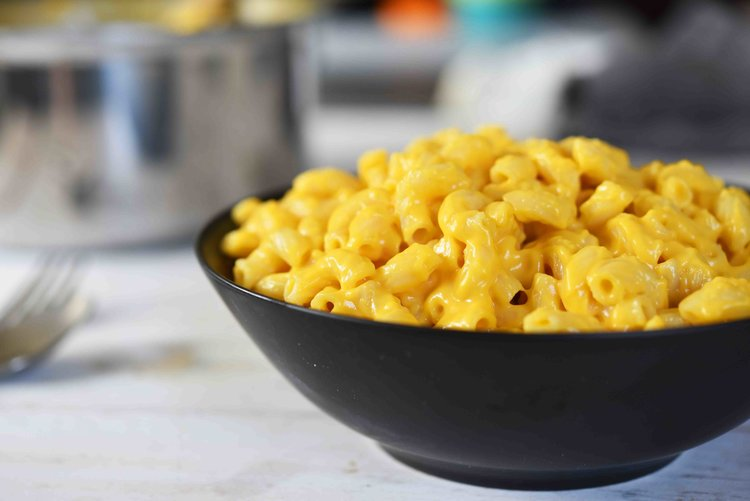macncheese: (280, 154, 744, 375)
